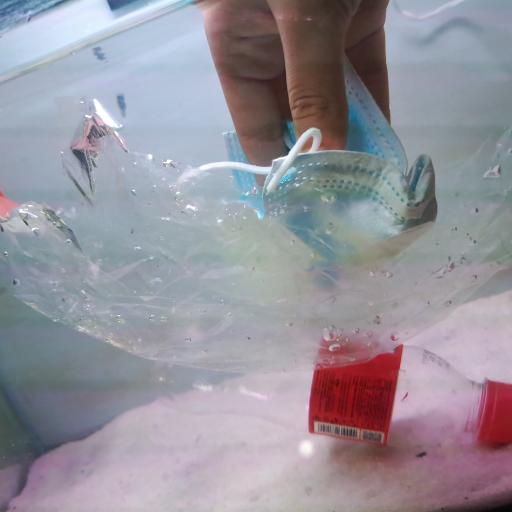bottle_cap: (480, 372, 512, 455)
mask: (196, 118, 443, 274)
plastic_bag: (0, 106, 512, 380)
plastic_bottle: (153, 338, 512, 450)
